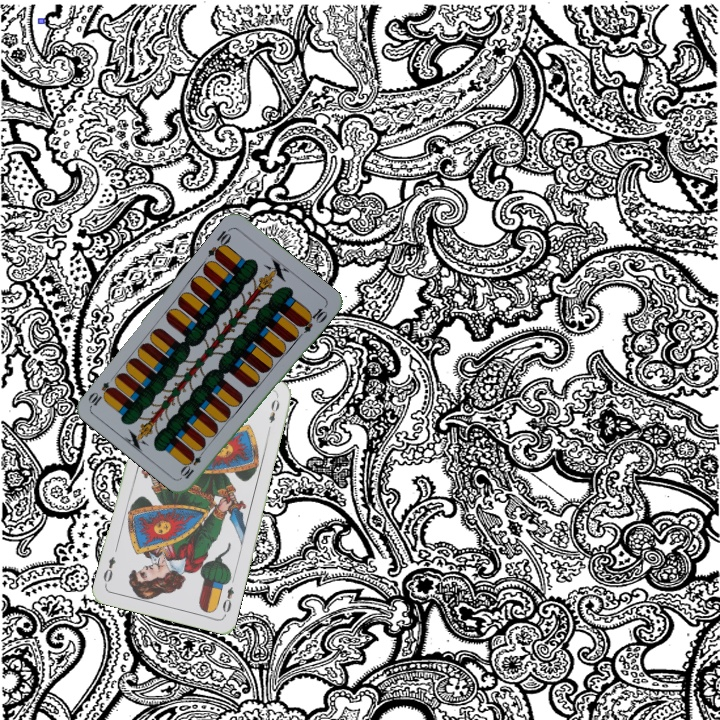E10: (204, 224, 234, 262), (177, 445, 208, 481)
EO: (218, 583, 237, 618)
